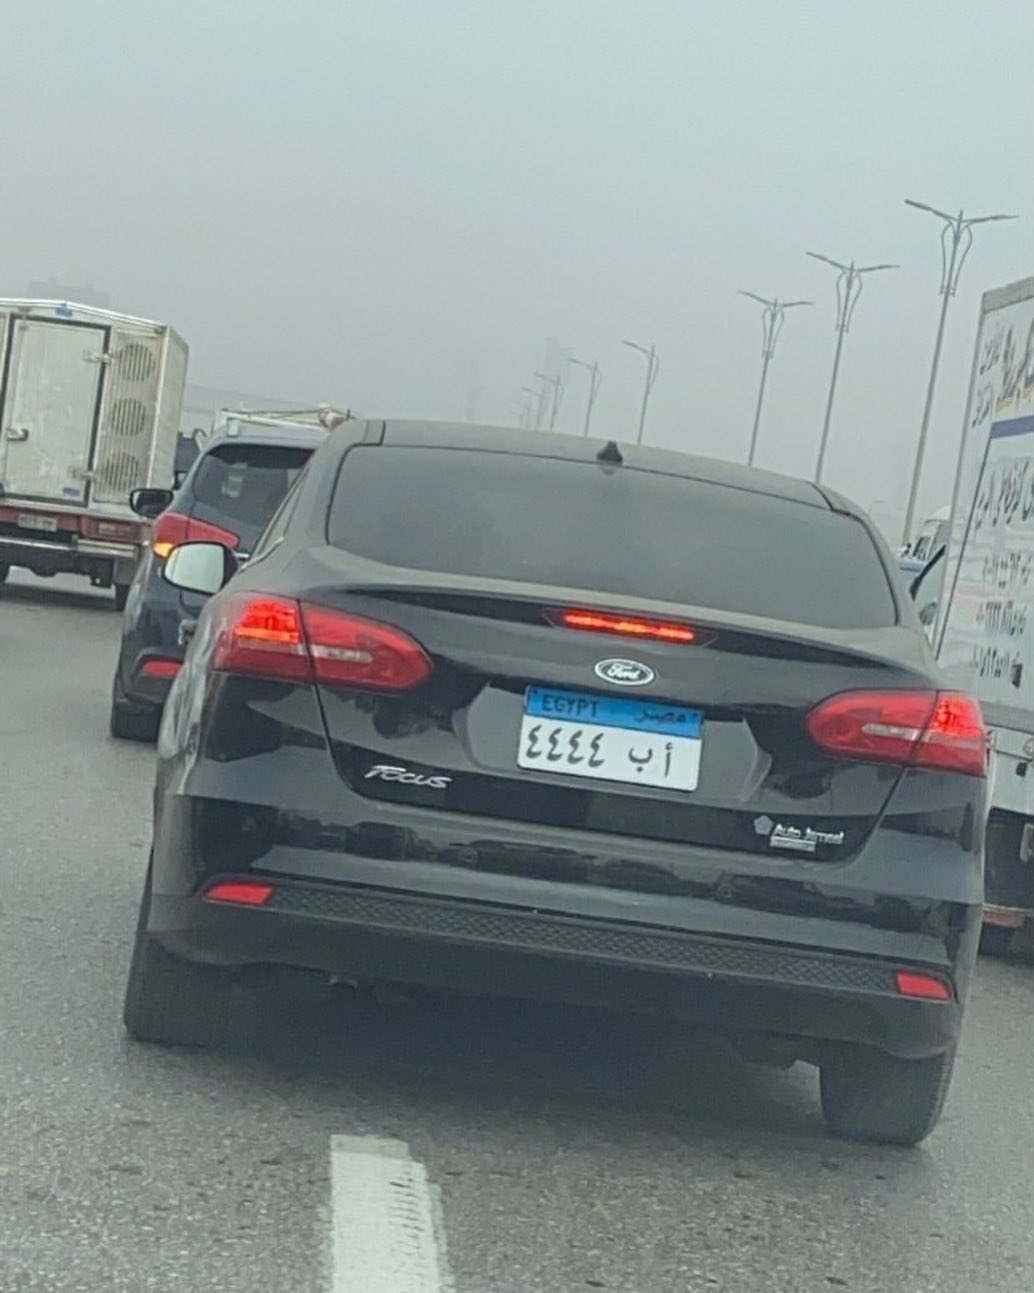carpl: (522, 673, 705, 792)
